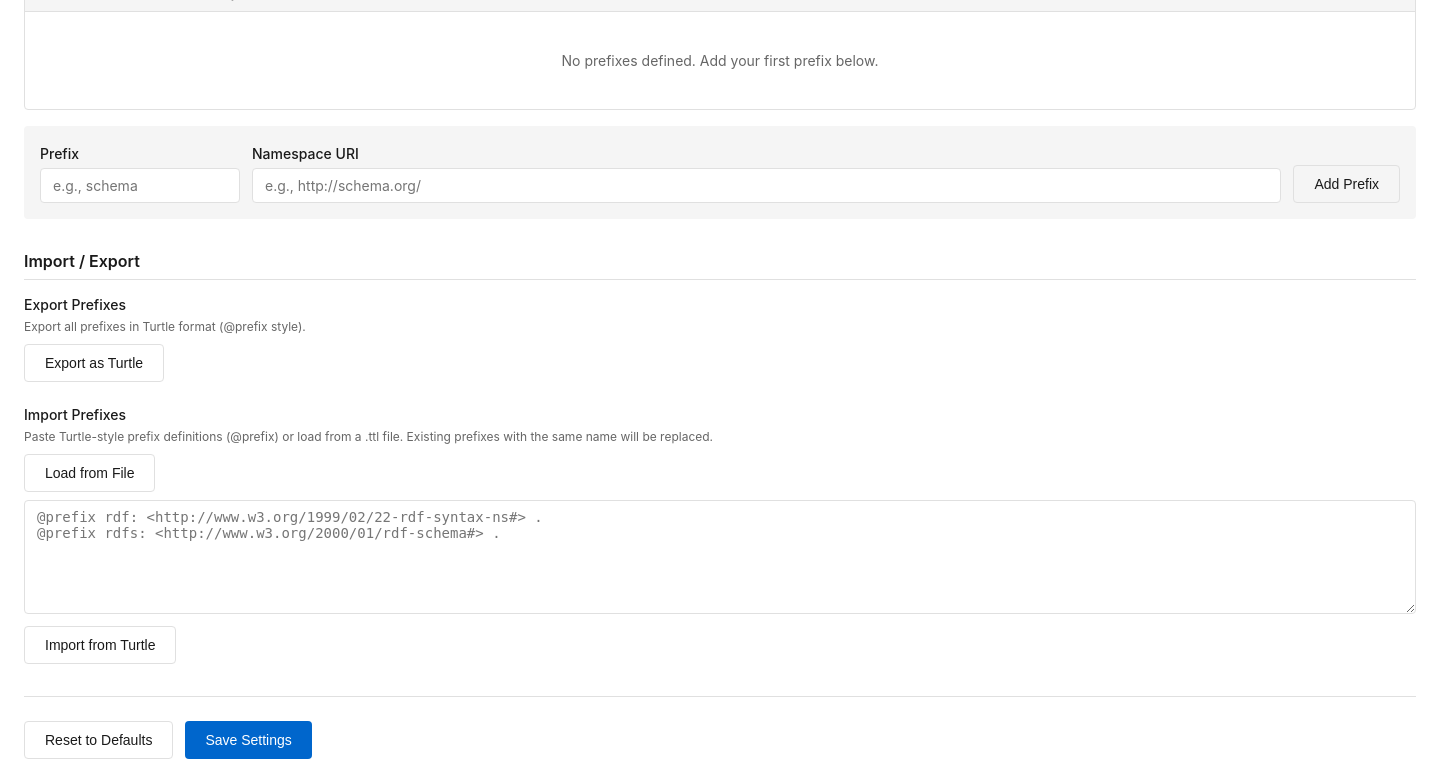
Test: PrefixManagementSettingsView › resets to the default prefix list
(page scrolled)
Step 1. Click the button "Reset to Defaults" → [99, 740], box [24,721,173,759]
(page scrolled)
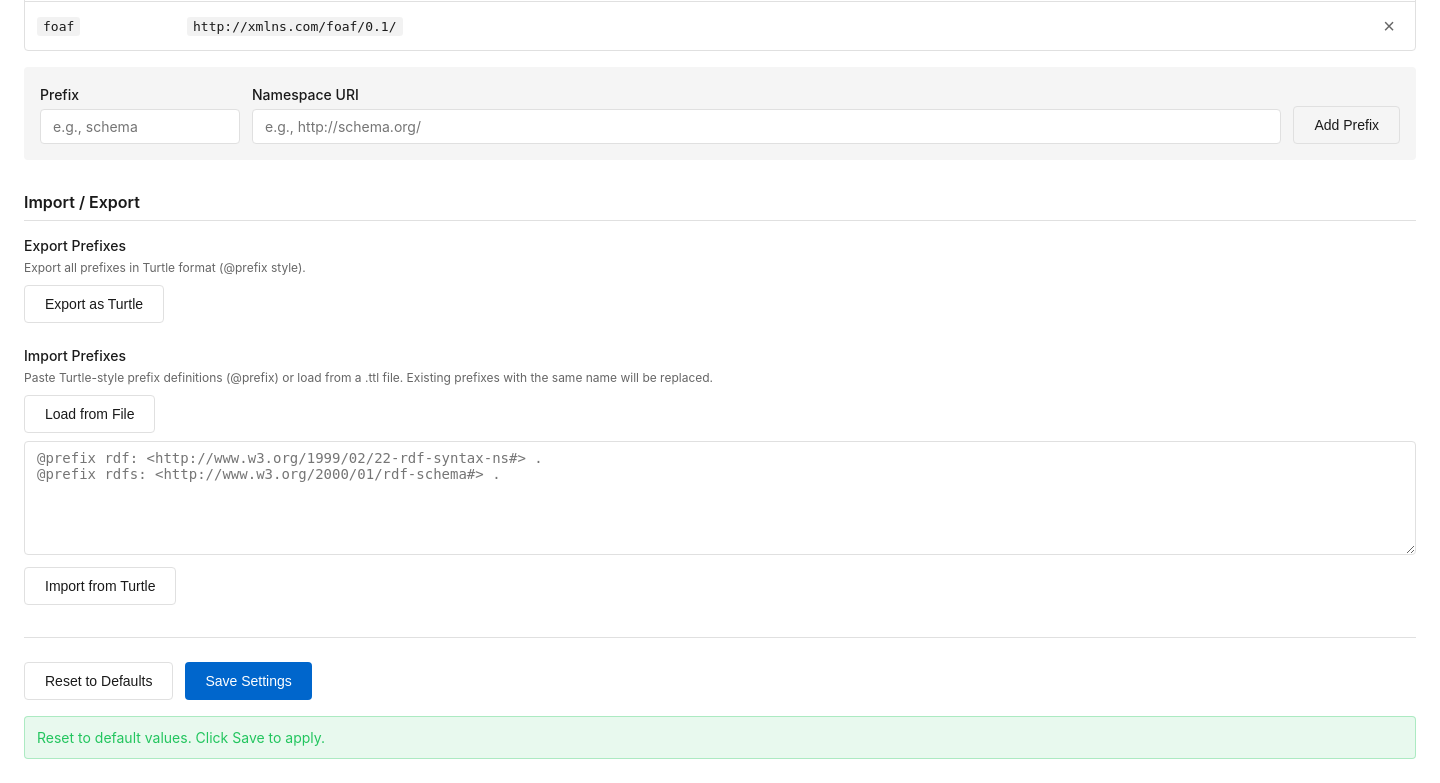
Check: the text with class "save-message" shows "Reset to default values", box [37,729,325,746]
